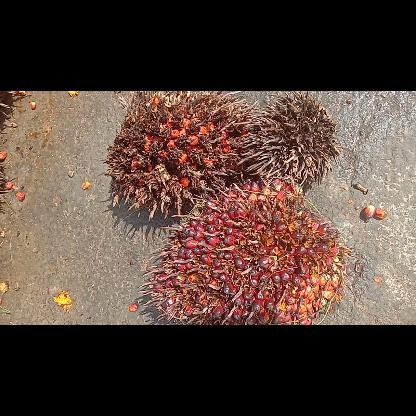Janjang kosong: (238, 91, 340, 189)
TBS masak: (138, 178, 356, 324)
Terlalu masak: (102, 90, 256, 220)
